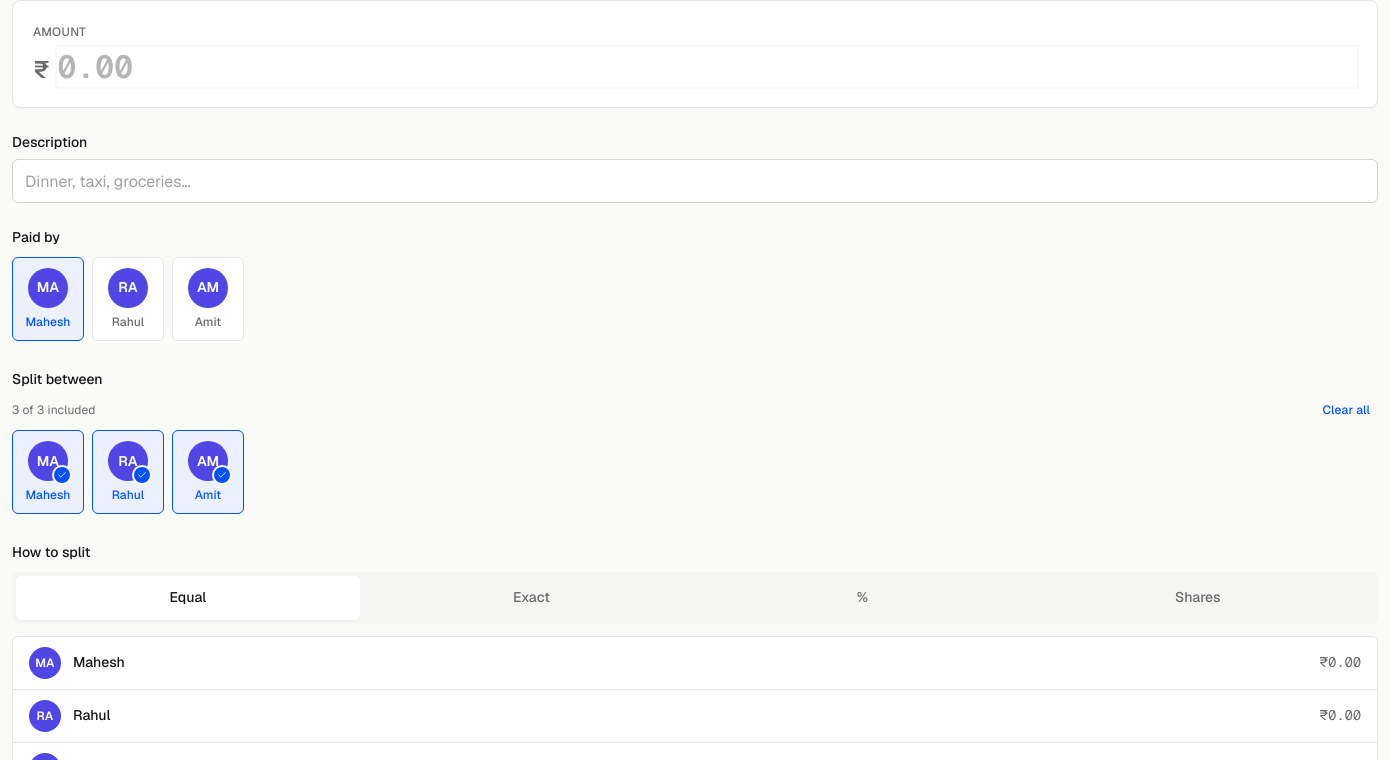
it: AddExpenseForm › keeps Save disabled until the required fields are filled in
Type "900" into the field labelled "Amount".
click(707, 67); type("900")  # box top-left (57, 47), bottom-right (1357, 87)
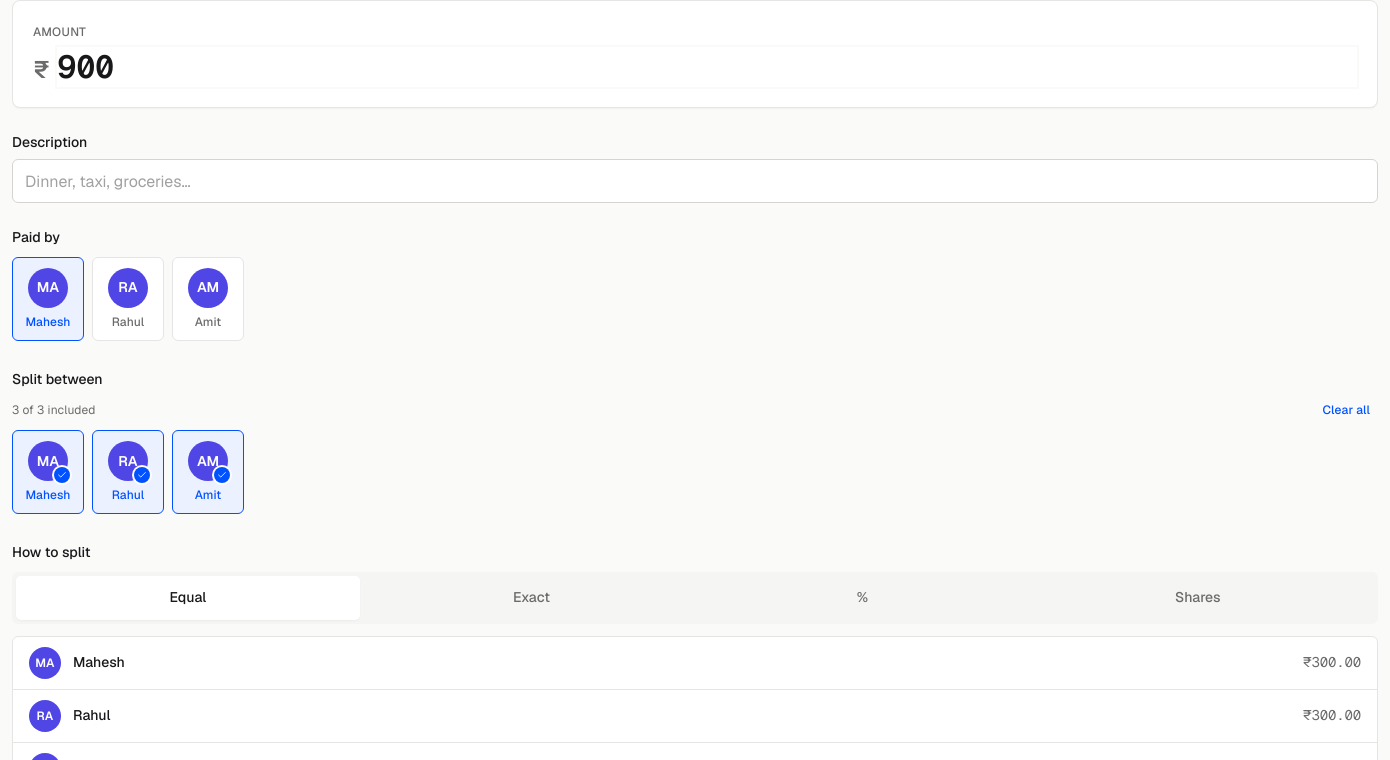
Type "Dinner" into the field labelled "Description".
click(695, 181); type("Dinner")  # box top-left (12, 159), bottom-right (1378, 203)
(page scrolled)
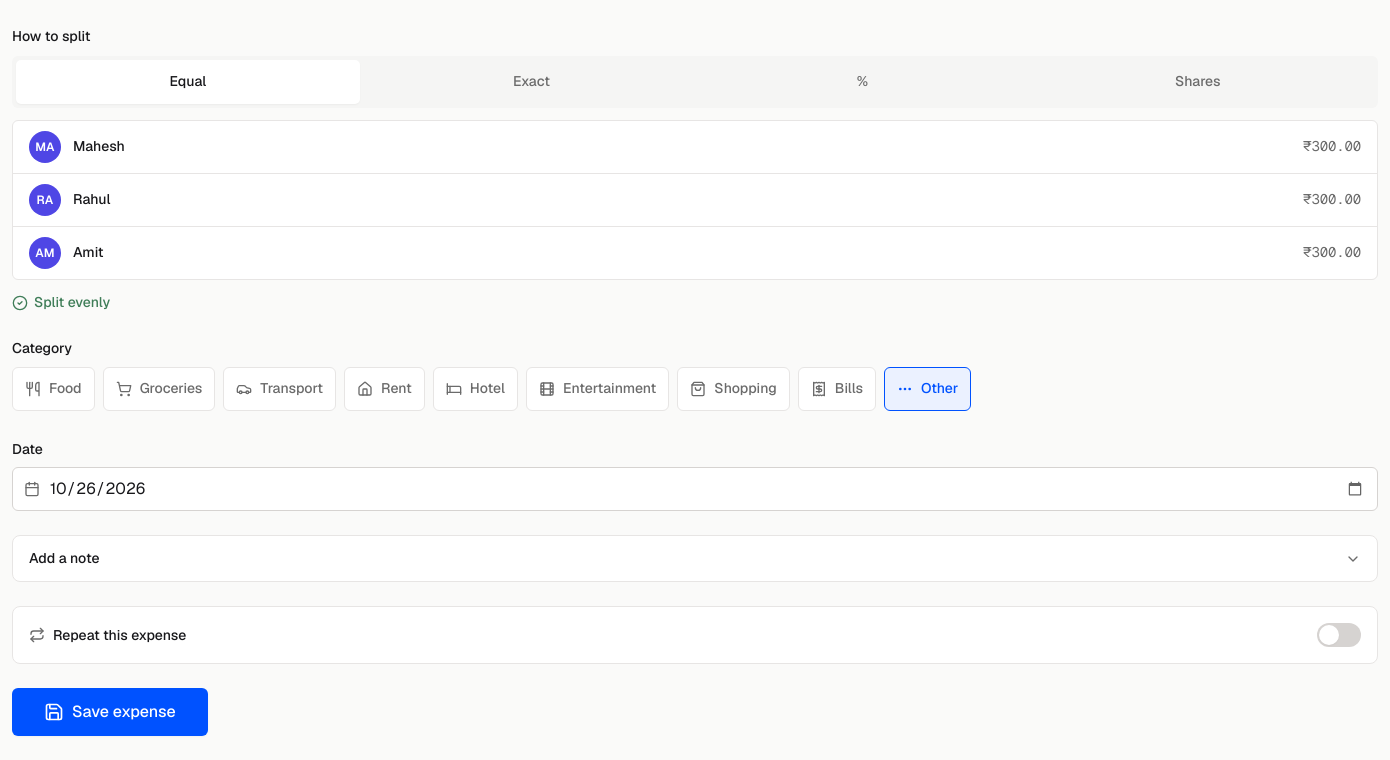
Now the button "Save expense" is enabled, box top-left (12, 688), bottom-right (208, 736)
